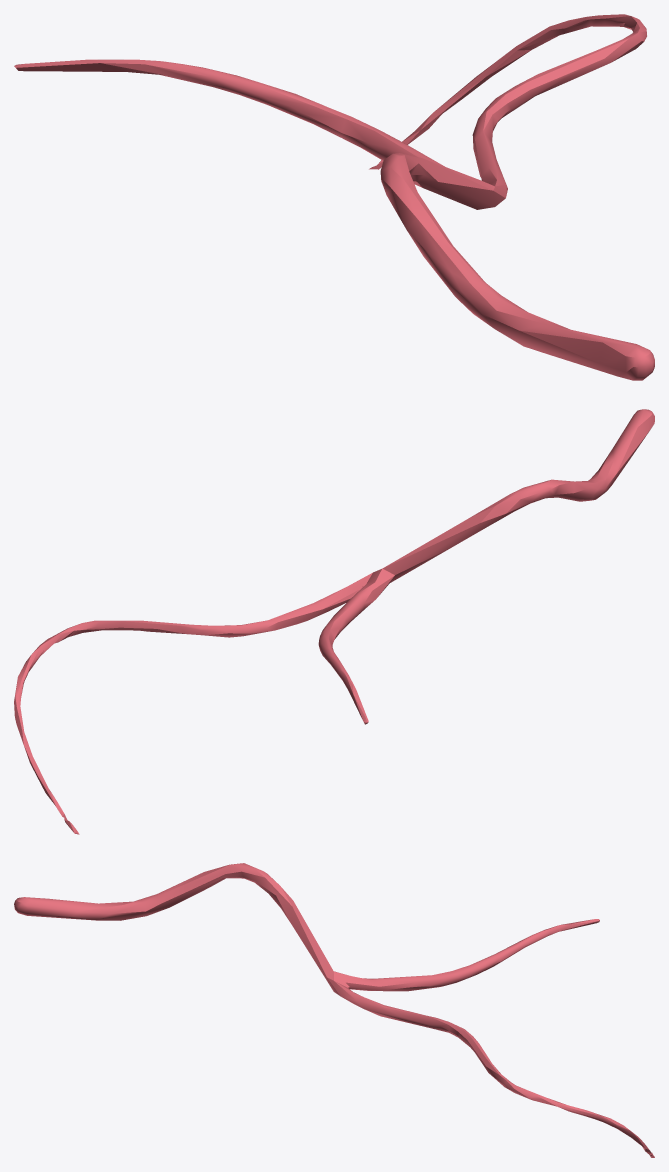
File: fma50579_fj1683m.glb
3 renders of one model, top to bottom at view 1: azimuth 30°, elevation 25°; view 2: azimuth 150°, elevation 25°; view 3: azimuth 270°, elevation 25°, orthographic. The views are drawn at different scales.
Parts seen in each view (by area): view 1: FMA50579_FJ1683M; view 2: FMA50579_FJ1683M; view 3: FMA50579_FJ1683M.
Boxes of the visible parts, left/top/right/bottom form: FMA50579_FJ1683M: left=14, top=14, right=654, bottom=380; FMA50579_FJ1683M: left=14, top=409, right=654, bottom=834; FMA50579_FJ1683M: left=14, top=863, right=654, bottom=1157.
Bounding box in the file's own units: 0.0312 × 0.019 × 0.0556.
